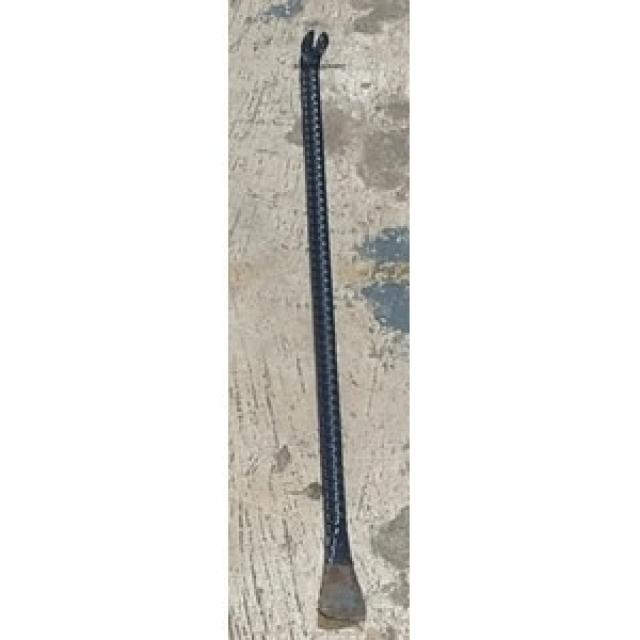Linggis: (298, 28, 374, 627)
